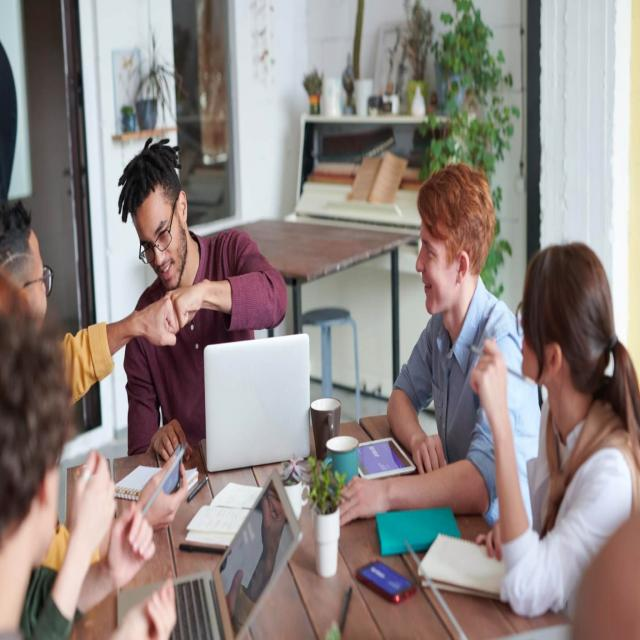adult: (336, 165, 527, 524), (471, 241, 640, 640), (121, 140, 289, 462)
